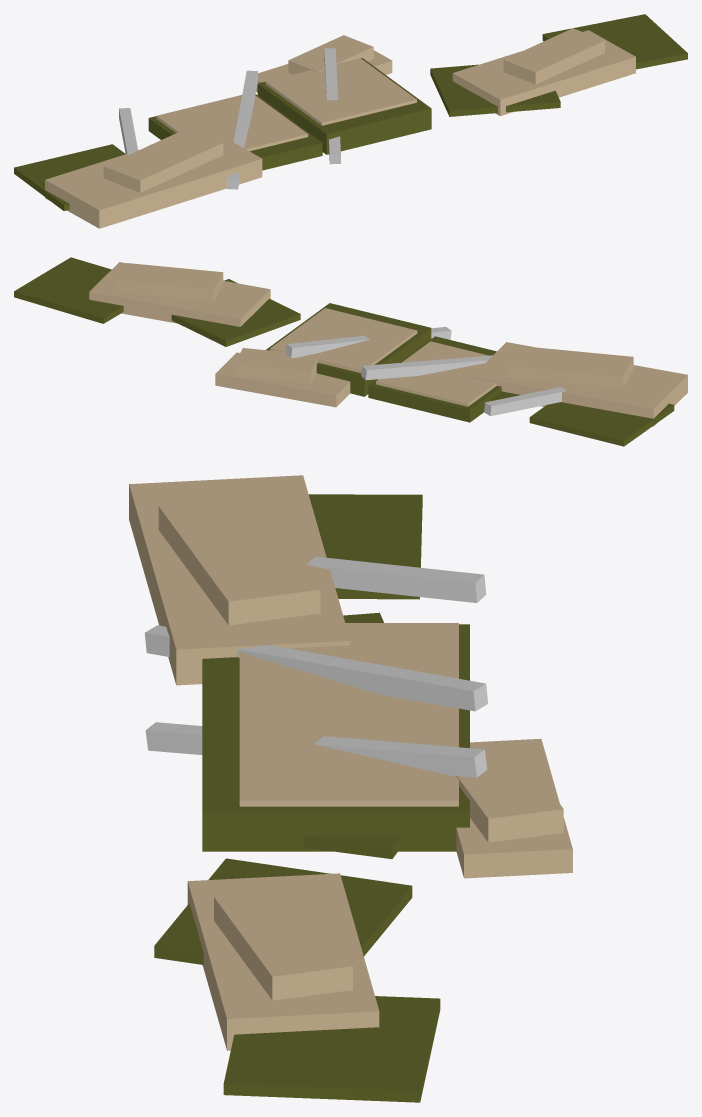
Rendered from SM_HescoCorto3_v1_Geotextil_e3_Brecha_LOD1.fbx.
3 renders of one model, top to bottom at view 1: azimuth 30°, elevation 25°; view 2: azimuth 150°, elevation 25°; view 3: azimuth 270°, elevation 25°, orthographic. The views are drawn at different scales.
Parts seen in each view (by area): view 1: SM_hesco_piezas_v87_LOD1; view 2: SM_hesco_piezas_v87_LOD1; view 3: SM_hesco_piezas_v87_LOD1.
Part boxes in pixels (x1=…): SM_hesco_piezas_v87_LOD1: x1=14, y1=14, x2=687, y2=228; SM_hesco_piezas_v87_LOD1: x1=14, y1=257, x2=687, y2=446; SM_hesco_piezas_v87_LOD1: x1=129, y1=475, x2=572, y2=1102.
Bounding box in the file's own units: 6.44 × 0.351 × 2.02.
